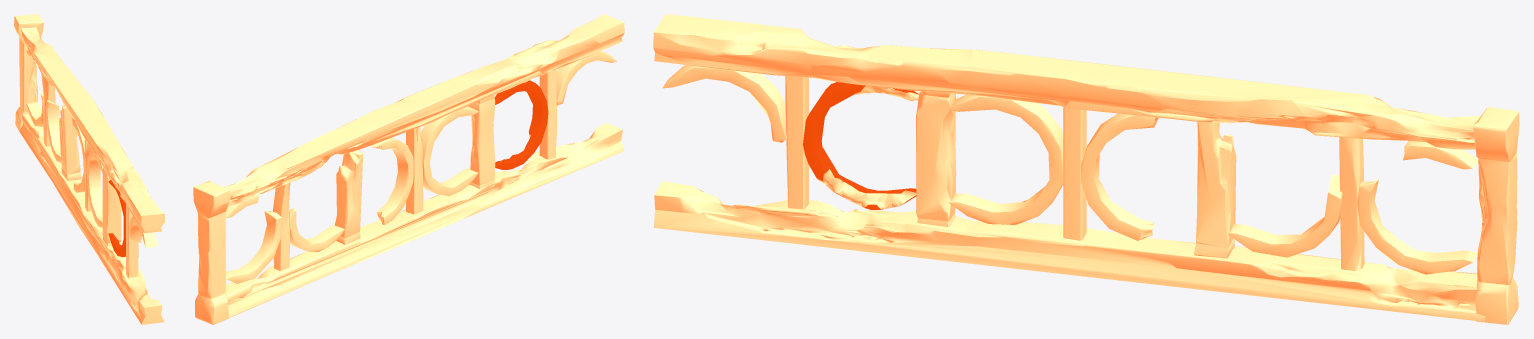
File: SM_Rails_ForeCastle.fbx
The picture shows the model from 3 angles, left to right: view 1: azimuth 30°, elevation 25°; view 2: azimuth 150°, elevation 25°; view 3: azimuth 270°, elevation 25°; orthographic projection. The views are drawn at different scales.
Visible parts, largest first — view 1: SM_Rails_ForeCastle_LOD0; view 2: SM_Rails_ForeCastle_LOD0; view 3: SM_Rails_ForeCastle_LOD0.
Boxes of the visible parts, left/top/right/bottom form: SM_Rails_ForeCastle_LOD0: left=14, top=14, right=164, bottom=324; SM_Rails_ForeCastle_LOD0: left=193, top=14, right=624, bottom=324; SM_Rails_ForeCastle_LOD0: left=653, top=14, right=1519, bottom=324.
Size of the model in its own units: 189 by 602 by 153.
